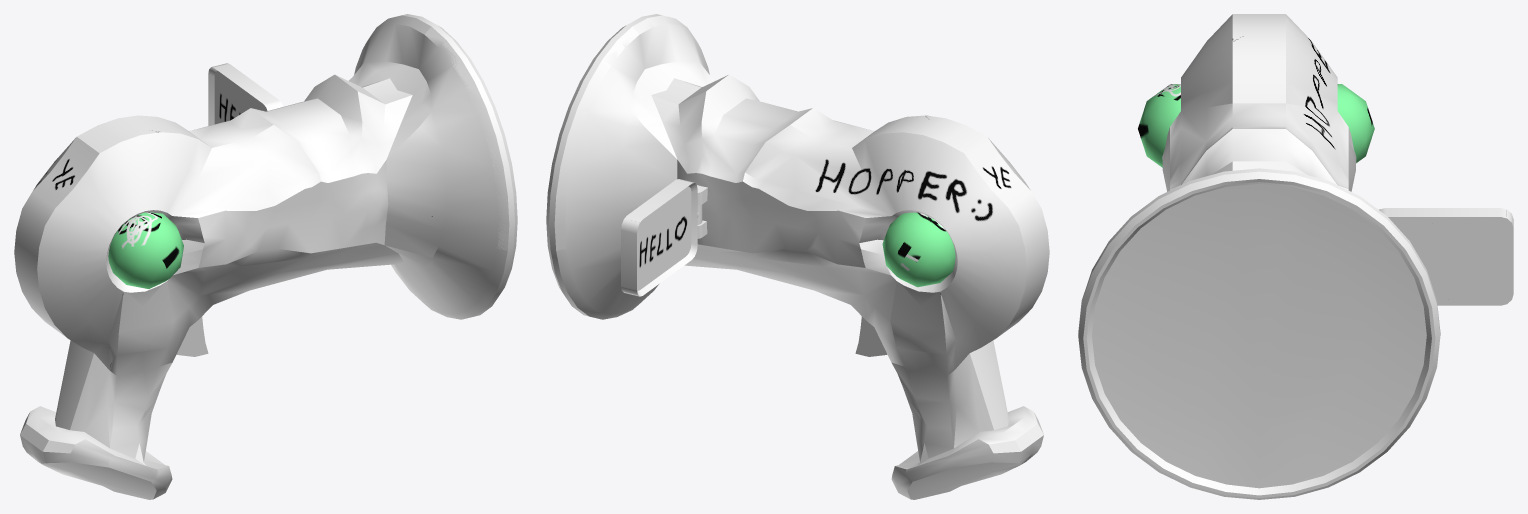
File: Hopper_Gun._Painted.glb
The picture shows the model from 3 angles, left to right: view 1: azimuth 30°, elevation 25°; view 2: azimuth 150°, elevation 25°; view 3: azimuth 270°, elevation 25°; orthographic projection. The views are drawn at different scales.
Parts seen in each view (by area): view 1: Circle, Icosphere.001, Cube, Plane; view 2: Circle, Cube, Icosphere, Plane; view 3: Circle, Cube, Icosphere.001, Icosphere.
Part boxes in pixels (box(x1,y1,x2,y2)): Circle: box(14, 14, 517, 499); Icosphere.001: box(108, 212, 183, 288); Cube: box(208, 63, 283, 125); Plane: box(176, 316, 208, 356); Circle: box(546, 14, 1049, 499); Cube: box(621, 179, 707, 296); Icosphere: box(882, 212, 955, 287); Plane: box(855, 316, 887, 356); Circle: box(1078, 14, 1440, 499); Cube: box(1379, 208, 1513, 305); Icosphere.001: box(1138, 84, 1180, 167); Icosphere: box(1337, 84, 1374, 163).
Size of the model in its own units: 3.57 by 3.26 by 2.78.
Materials: 3 (3 with a texture image).
